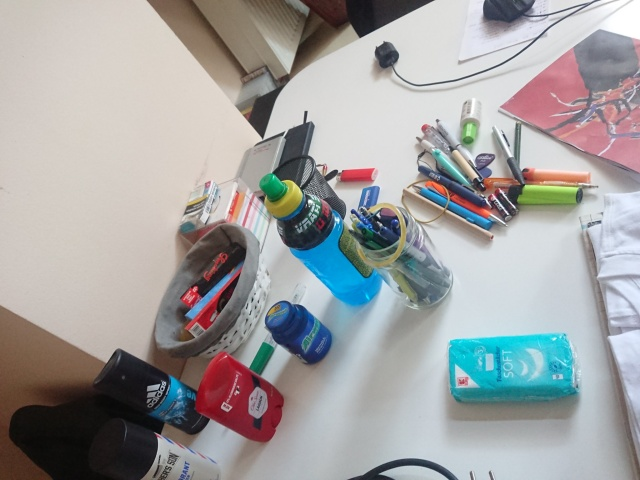Vindi Iso Sport Forest Strawberries 500mL: (257, 171, 383, 308)
